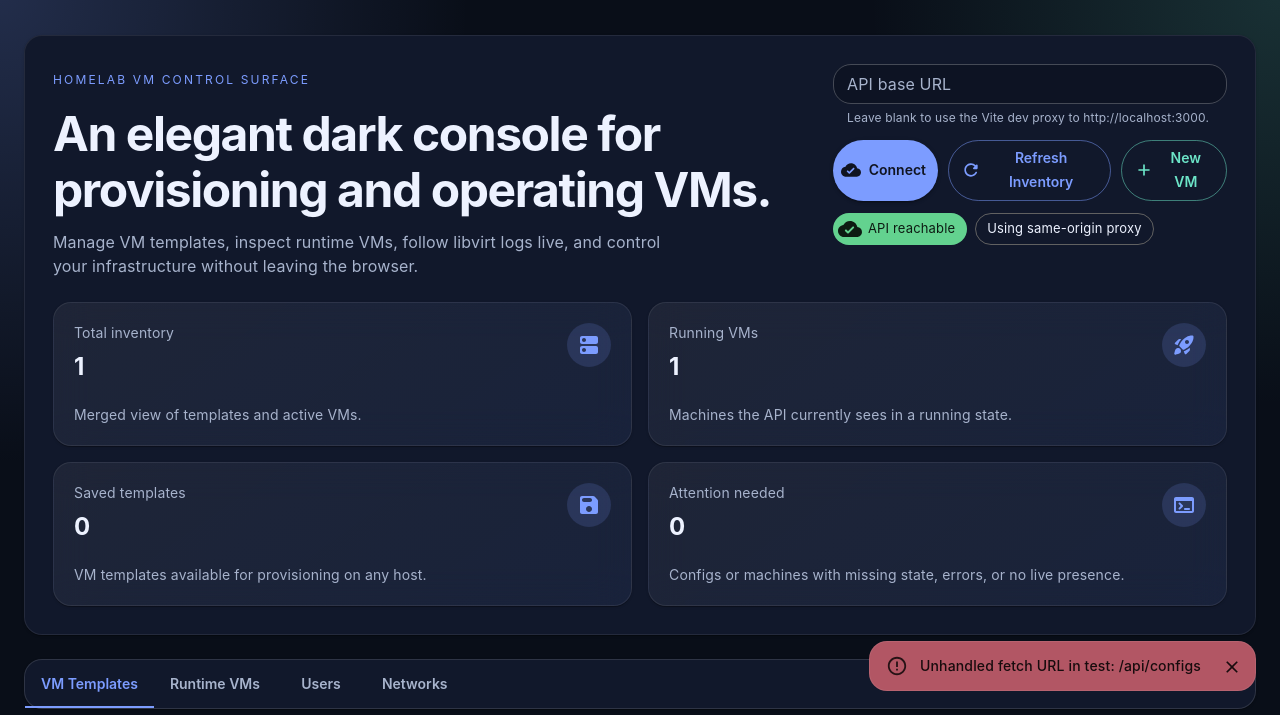
shows snapshots tab contents and stable start stop controls for a live VM
Note: Navigate to VMs tab first
Click the tab "Runtime VMs".
click(215, 684)  # box [154,660,276,708]
(page scrolled)
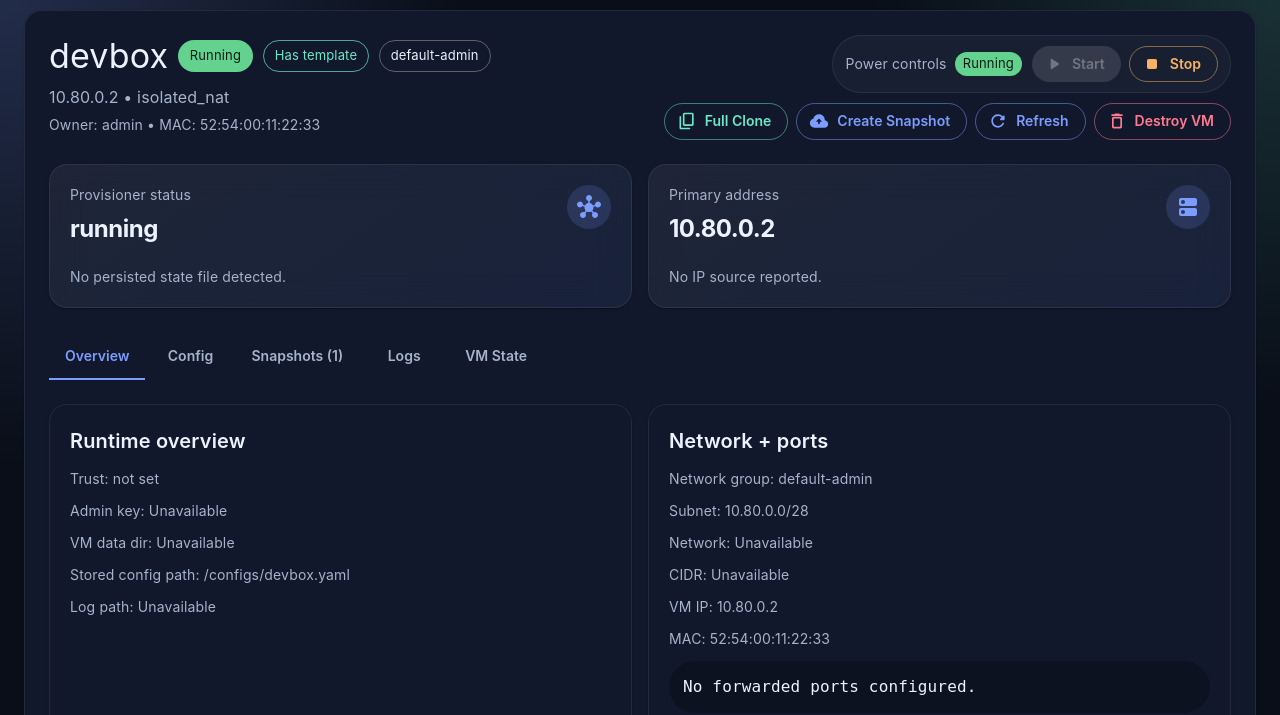
Result: the button "Start" is disabled at [1032,46,1121,82]
Result: the button "Stop" is enabled at [1129,46,1218,82]
Click the tab "Snapshots (1)".
click(297, 356)  # box [236,332,359,380]
(page scrolled)
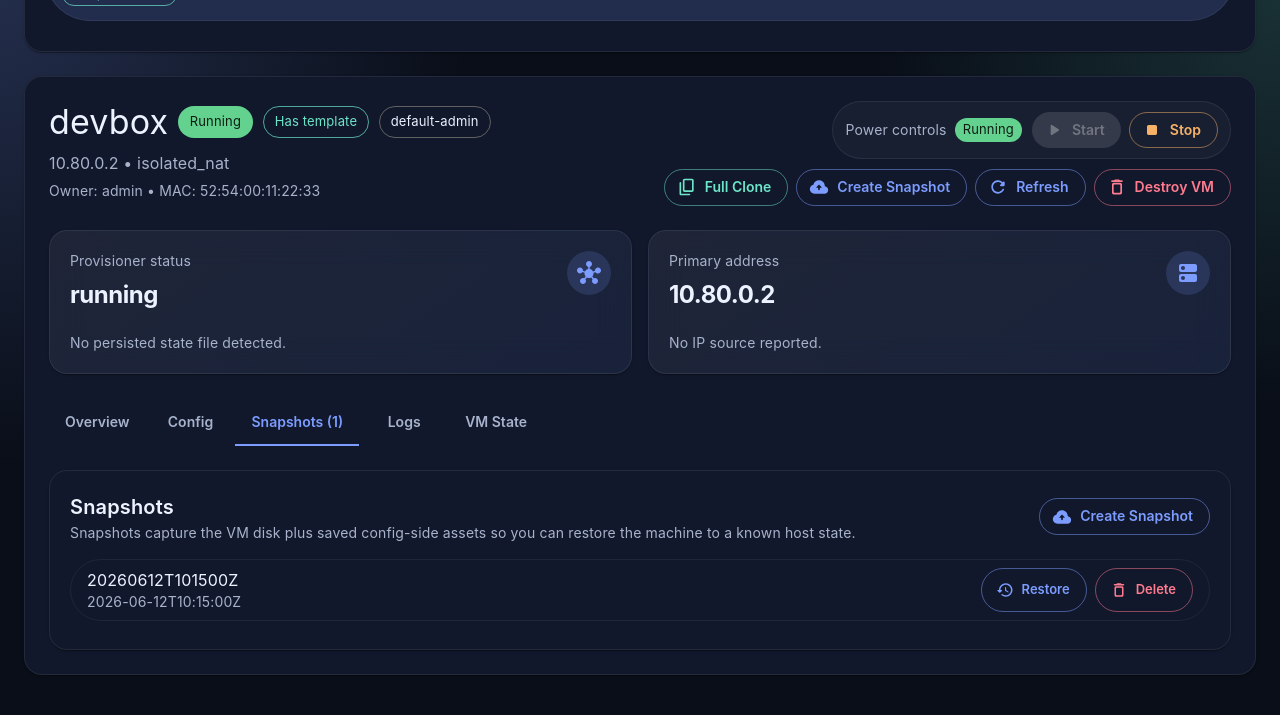
Result: the button "Create Snapshot" below "Power controls" is shown at [796,169,967,206]
Result: the text "20260612T101500Z" is shown at [87,570,238,590]
